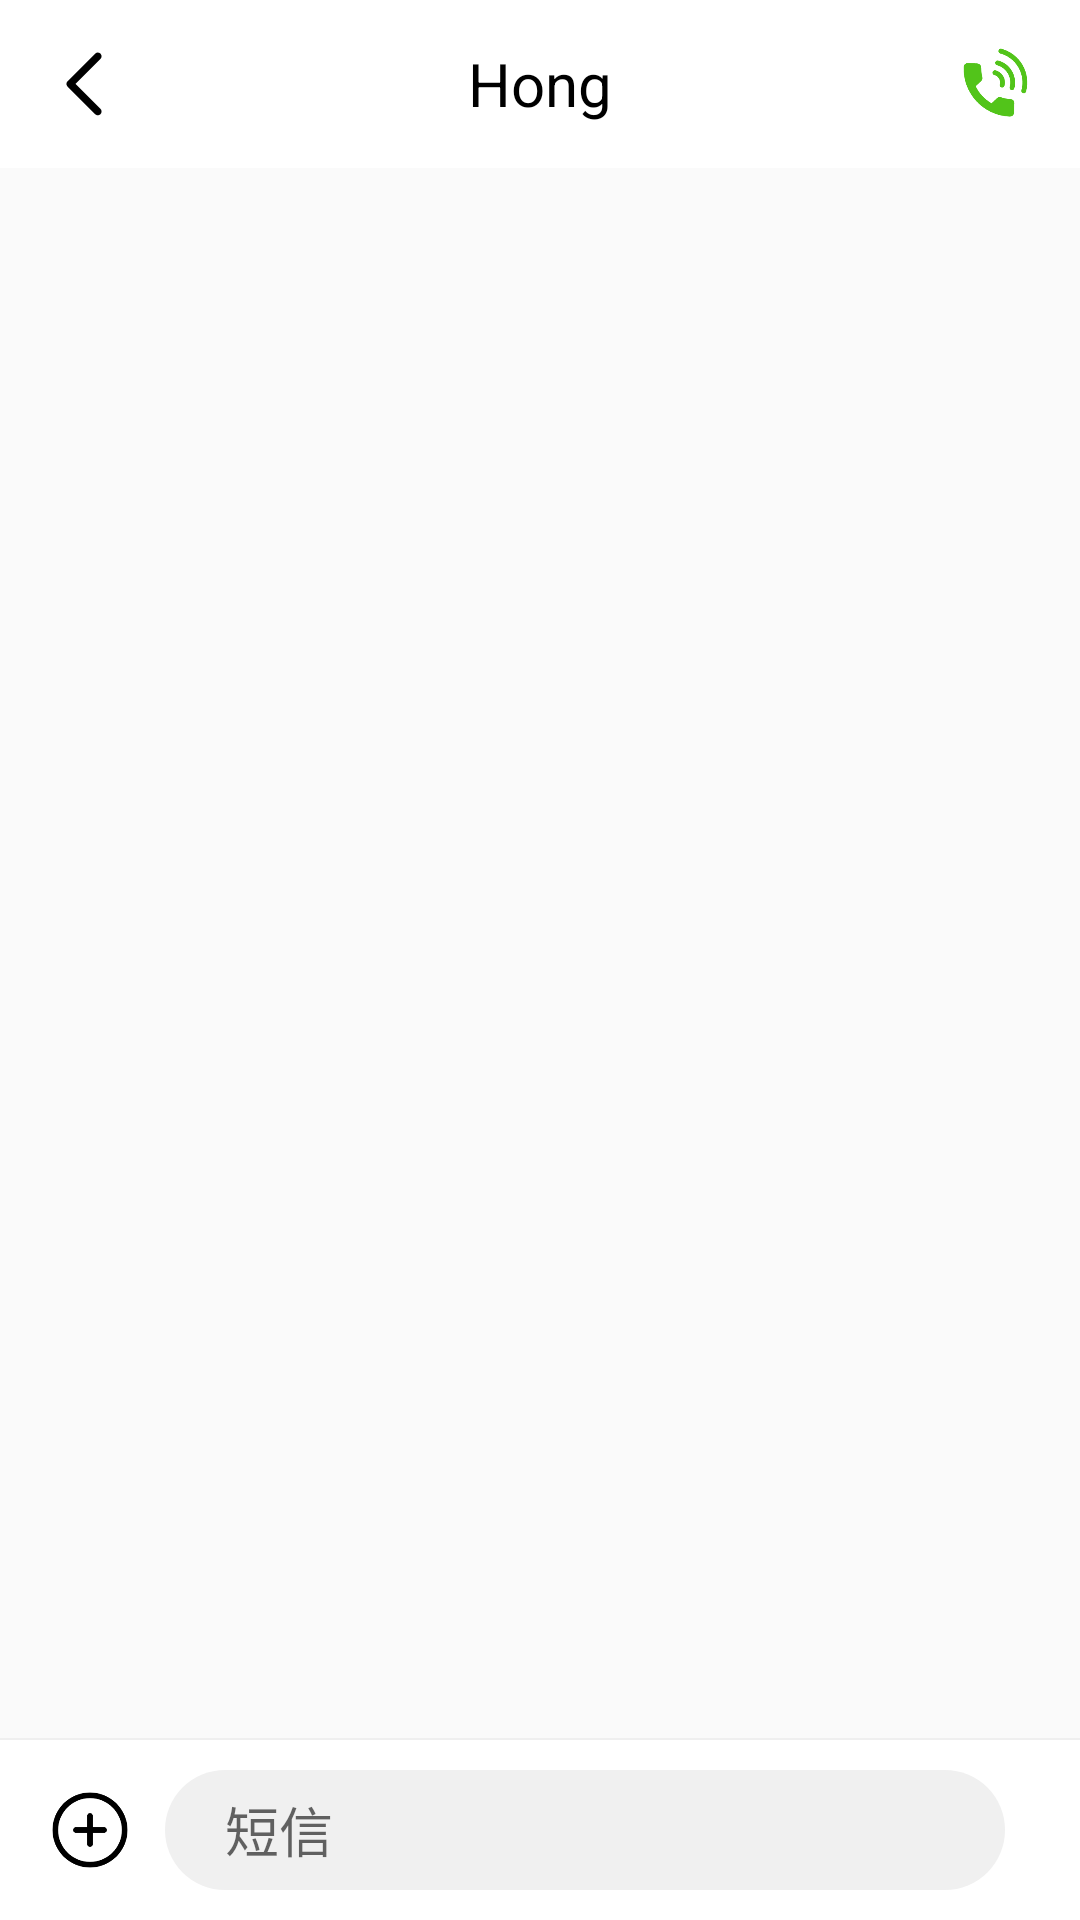

Icons on this 1080*1920 Android screen, each with its box as bbox=[x1, y1, x2, y2]:
add: bbox=[52, 1792, 128, 1868]
back: bbox=[66, 52, 102, 116]
phone: bbox=[963, 48, 1027, 117]
